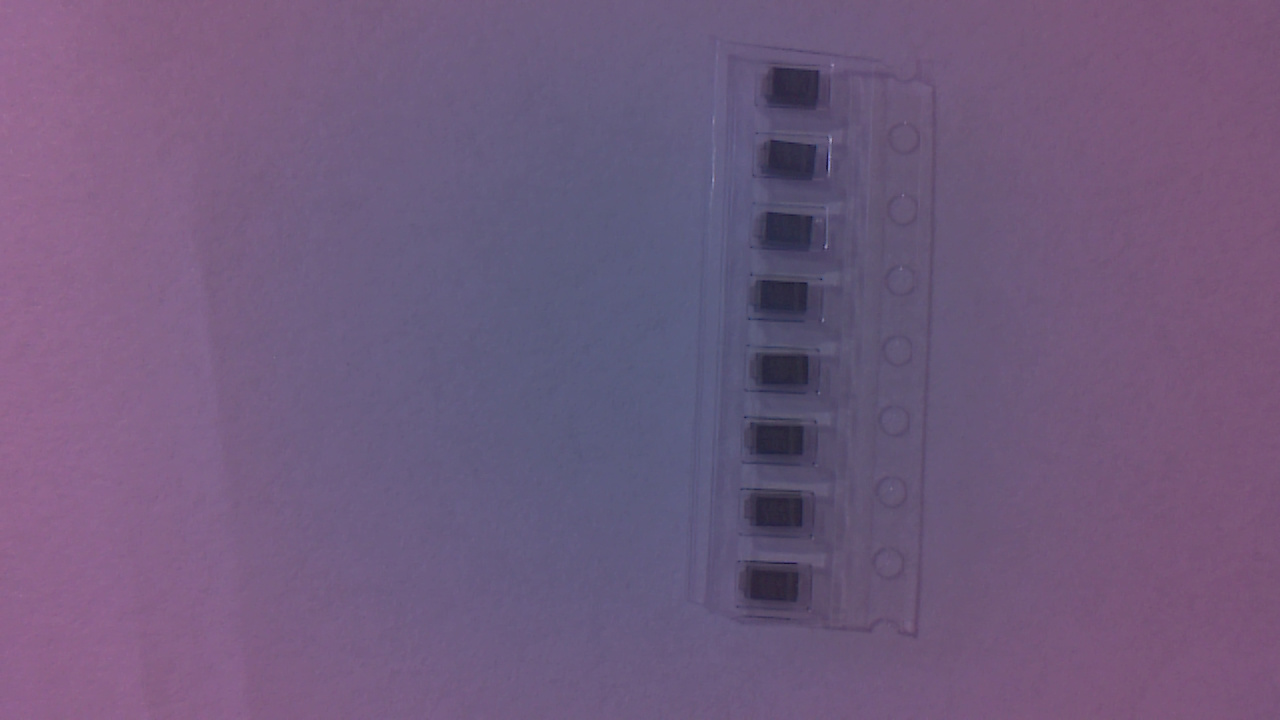Diode: (762, 67, 834, 116), (762, 138, 831, 184), (749, 420, 818, 466), (749, 495, 816, 540), (752, 354, 822, 397), (743, 568, 810, 612), (758, 214, 826, 256), (754, 281, 819, 324)
